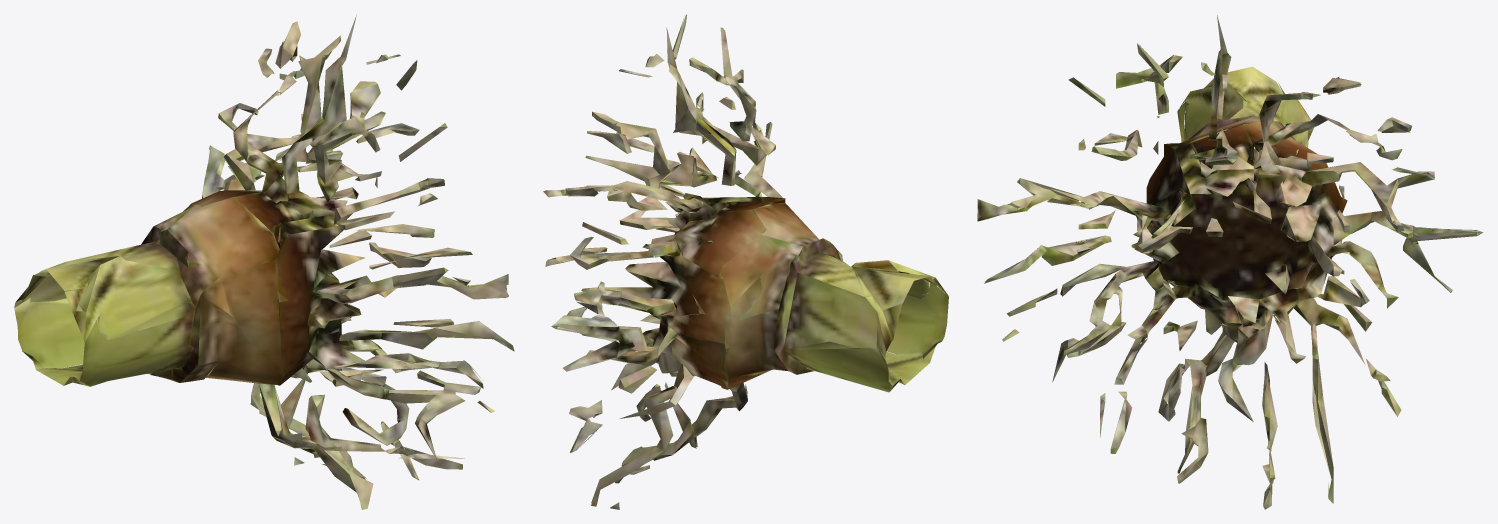
The model's file is turtle-s02-banana-roots-lie.glb.
The picture shows the model from 3 angles, left to right: view 1: azimuth 30°, elevation 25°; view 2: azimuth 150°, elevation 25°; view 3: azimuth 270°, elevation 25°; orthographic projection. The views are drawn at different scales.
Parts seen in each view (by area): view 1: Mesh_0; view 2: Mesh_0; view 3: Mesh_0.
Part boxes in pixels (x1,y1,x2,y2): Mesh_0: (14,15,514,509); Mesh_0: (543,14,948,509); Mesh_0: (977,15,1483,509).
Size of the model in its own units: 0.0521 by 0.07 by 0.0668.
Materials: 1 (1 with a texture image).
